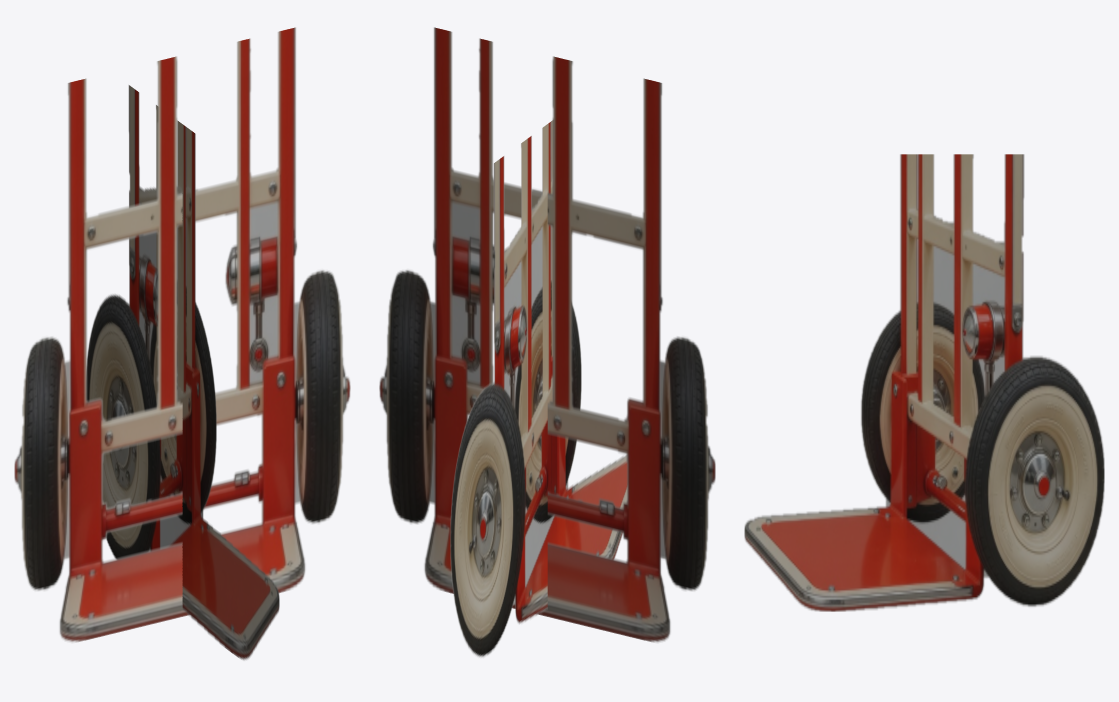
Rendered from hand_truck.glb.
The picture shows the model from 3 angles, left to right: view 1: azimuth 30°, elevation 25°; view 2: azimuth 150°, elevation 25°; view 3: azimuth 270°, elevation 25°; orthographic projection. The views are drawn at different scales.
Parts seen in each view (by area): view 1: hand_truck; view 2: hand_truck; view 3: hand_truck.
Boxes of the visible parts, left/top/right/bottom form: hand_truck: left=14, top=27, right=350, bottom=660; hand_truck: left=379, top=27, right=715, bottom=657; hand_truck: left=744, top=154, right=1104, bottom=611.
Size of the model in its own units: 0.4991 by 0.7969 by 0.4992.
Materials: 1 (1 with a texture image).
